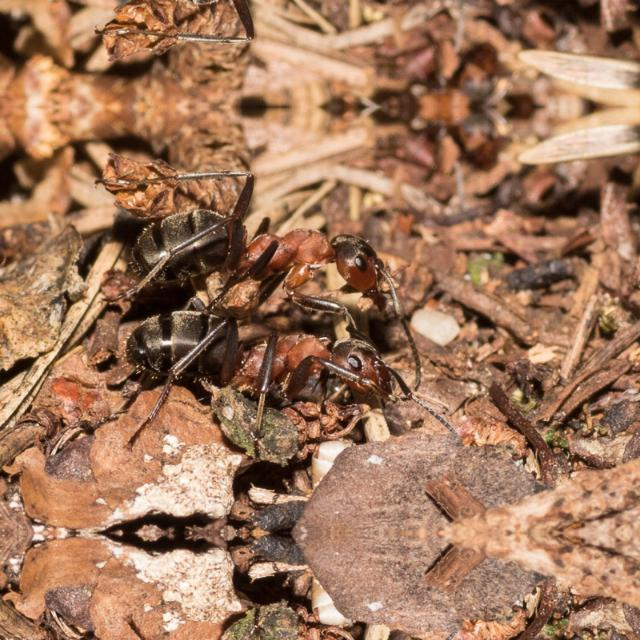Formica: (96, 160, 424, 344), (126, 294, 448, 422), (94, 0, 423, 52)
